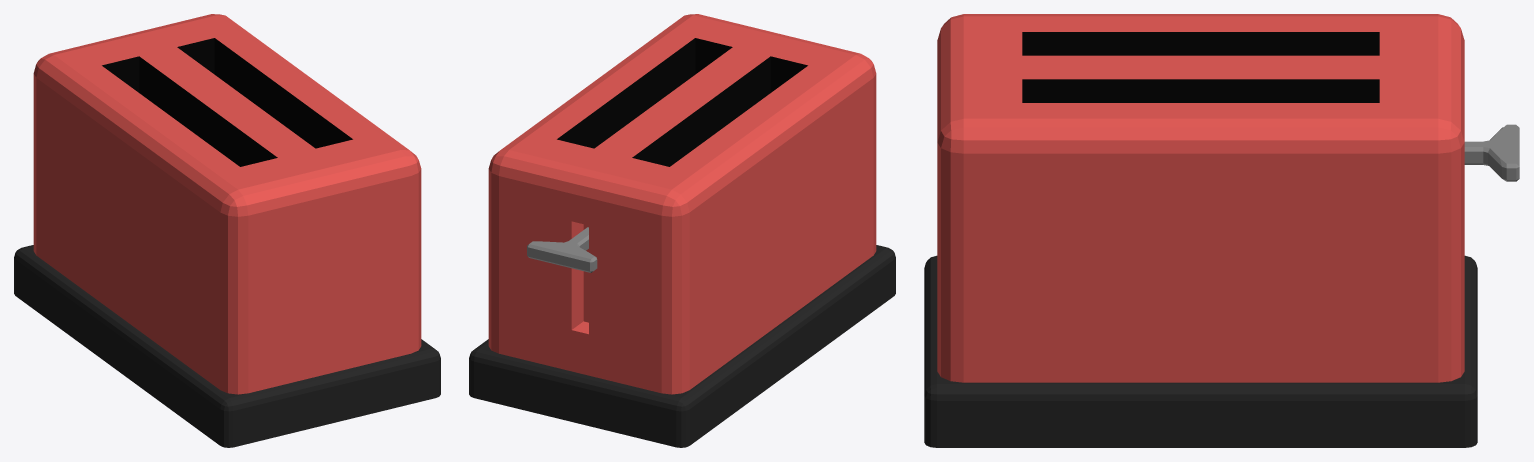
Rendered from toasterNew.fbx.
The picture shows the model from 3 angles, left to right: view 1: azimuth 30°, elevation 25°; view 2: azimuth 150°, elevation 25°; view 3: azimuth 270°, elevation 25°; orthographic projection. The views are drawn at different scales.
Visible parts, largest first — view 1: Cube; view 2: Cube; view 3: Cube.
Part boxes in pixels (x1=…): Cube: x1=14, y1=14, x2=440, y2=447; Cube: x1=469, y1=14, x2=895, y2=447; Cube: x1=924, y1=14, x2=1519, y2=447.
Bounding box in the file's own units: 124 × 131 × 226.
